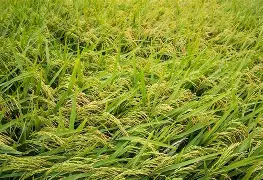crops: (0, 0, 260, 176), (156, 135, 262, 179), (38, 66, 94, 136), (90, 54, 152, 116), (47, 5, 121, 55), (120, 0, 195, 43), (0, 82, 47, 145), (0, 0, 55, 51), (207, 4, 263, 54), (100, 133, 169, 167), (0, 153, 55, 179), (114, 38, 149, 62)
